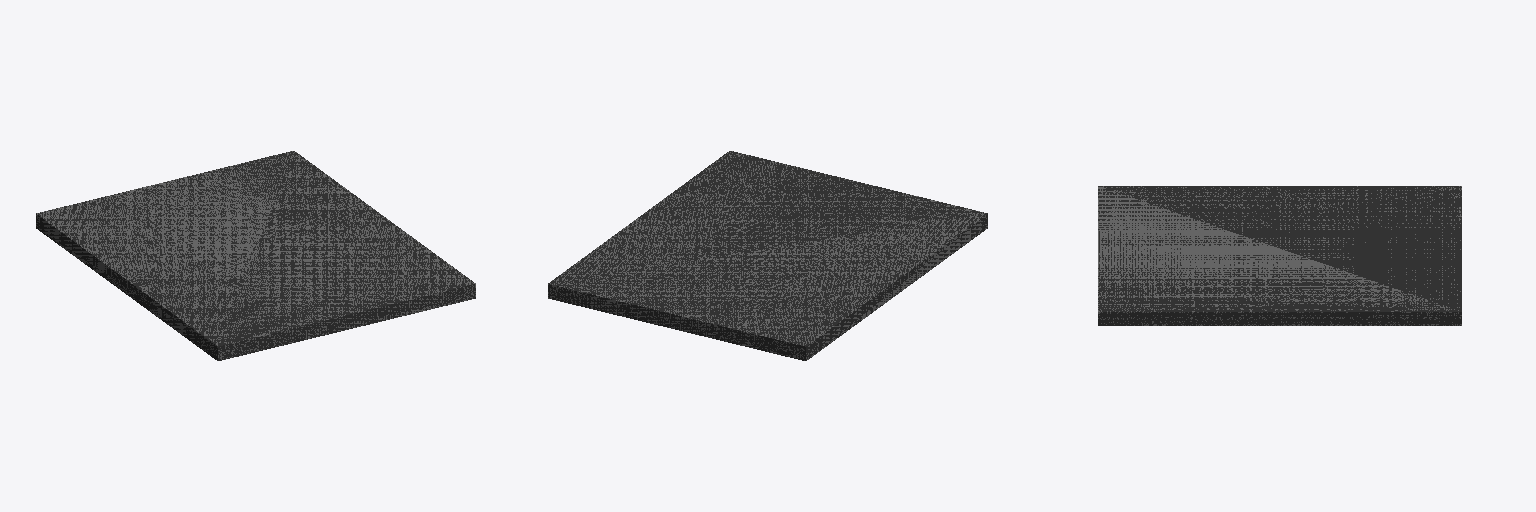
The model's file is original-135.obj.
3 renders of one model, left to right at view 1: azimuth 30°, elevation 25°; view 2: azimuth 150°, elevation 25°; view 3: azimuth 270°, elevation 25°, orthographic.
Parts seen in each view (by area): view 1: mesh223/mesh223-geometry#mesh223-geometry; view 2: mesh223/mesh223-geometry#mesh223-geometry; view 3: mesh223/mesh223-geometry#mesh223-geometry.
Boxes of the visible parts, <box> form: mesh223/mesh223-geometry#mesh223-geometry: <box>36,151,475,360</box>; mesh223/mesh223-geometry#mesh223-geometry: <box>548,151,987,360</box>; mesh223/mesh223-geometry#mesh223-geometry: <box>1098,186,1461,325</box>.
Size of the model in its own units: 0.081 by 0.0044 by 0.099.